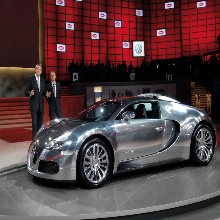no damage: (27, 96, 217, 186)
